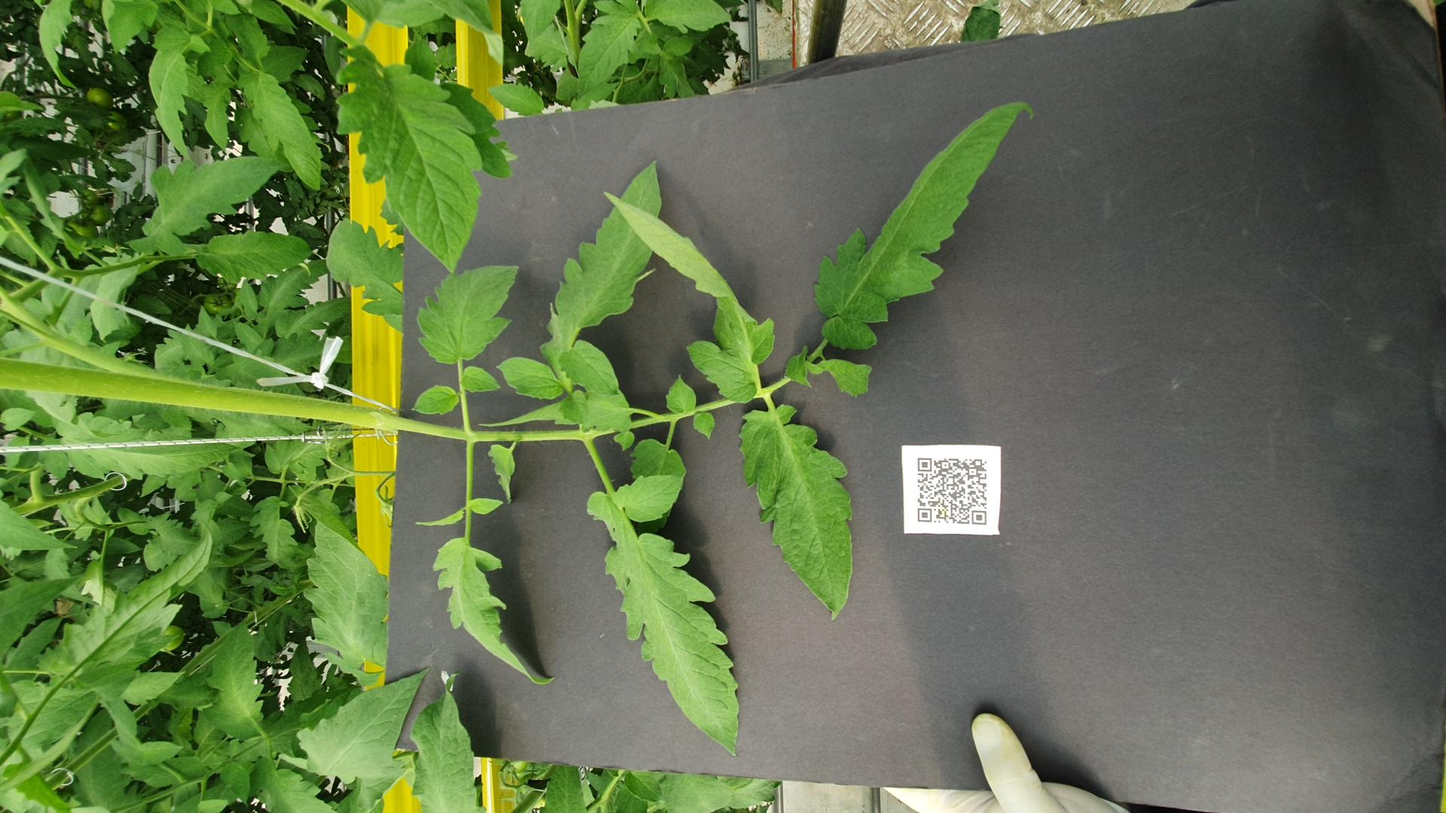Healthy: (821, 456, 1267, 583), (99, 329, 605, 416), (727, 338, 1108, 437), (957, 187, 1368, 272), (742, 304, 1164, 374), (345, 414, 728, 481), (226, 242, 493, 312), (990, 79, 1181, 164), (51, 166, 260, 242), (249, 169, 529, 219), (592, 30, 715, 136), (0, 230, 252, 276), (794, 234, 976, 294), (1151, 82, 1399, 119), (1104, 141, 1320, 182), (129, 113, 346, 150), (1265, 321, 1446, 360), (939, 108, 1034, 175), (934, 182, 1059, 227), (0, 140, 102, 190), (892, 144, 987, 184), (433, 140, 566, 168), (1341, 57, 1446, 91), (1285, 22, 1446, 44), (1385, 361, 1446, 413), (735, 279, 812, 315), (1181, 112, 1319, 132), (191, 69, 258, 107), (738, 460, 809, 491), (1362, 291, 1446, 317), (1242, 273, 1301, 308), (705, 230, 764, 259), (747, 259, 795, 283)
